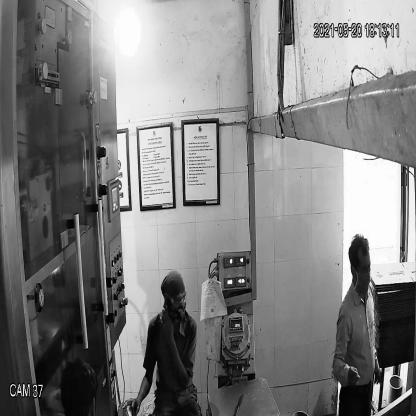goggles: (164, 290, 188, 311)
